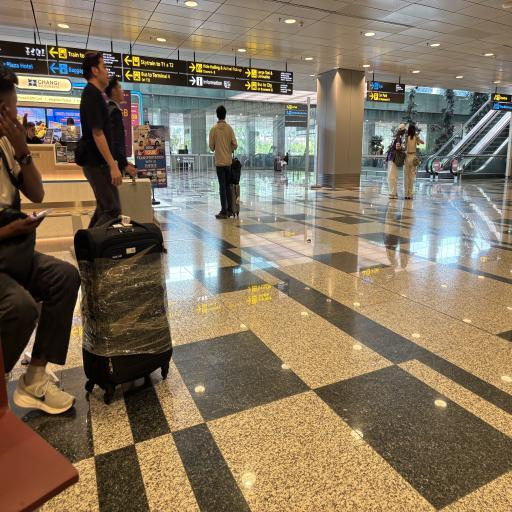person_with_luggage_right: (77, 40, 151, 212)
